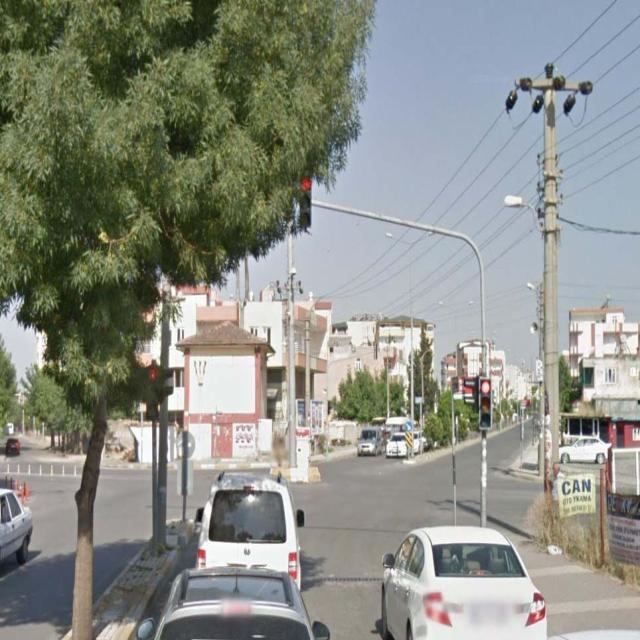kirmizi: (299, 174, 313, 227), (480, 378, 493, 428)
